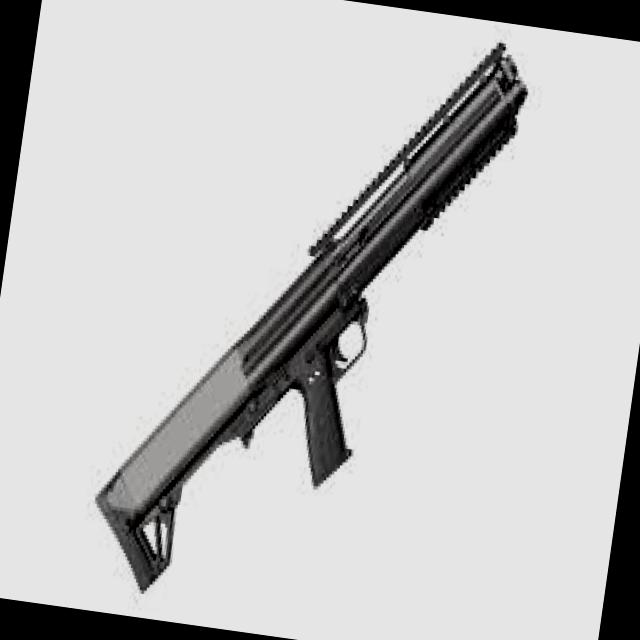long weapon: (88, 30, 562, 609)
